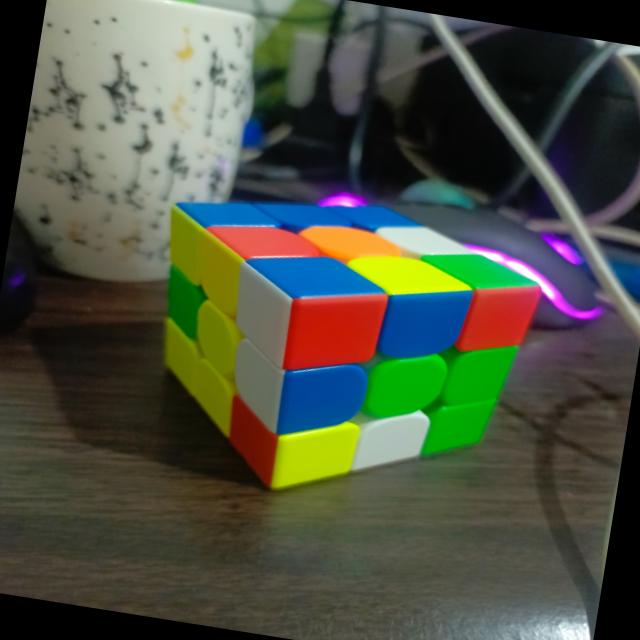rubik: (130, 172, 552, 526)
